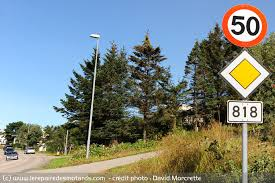Speed_limit_50km: (222, 4, 268, 49)
